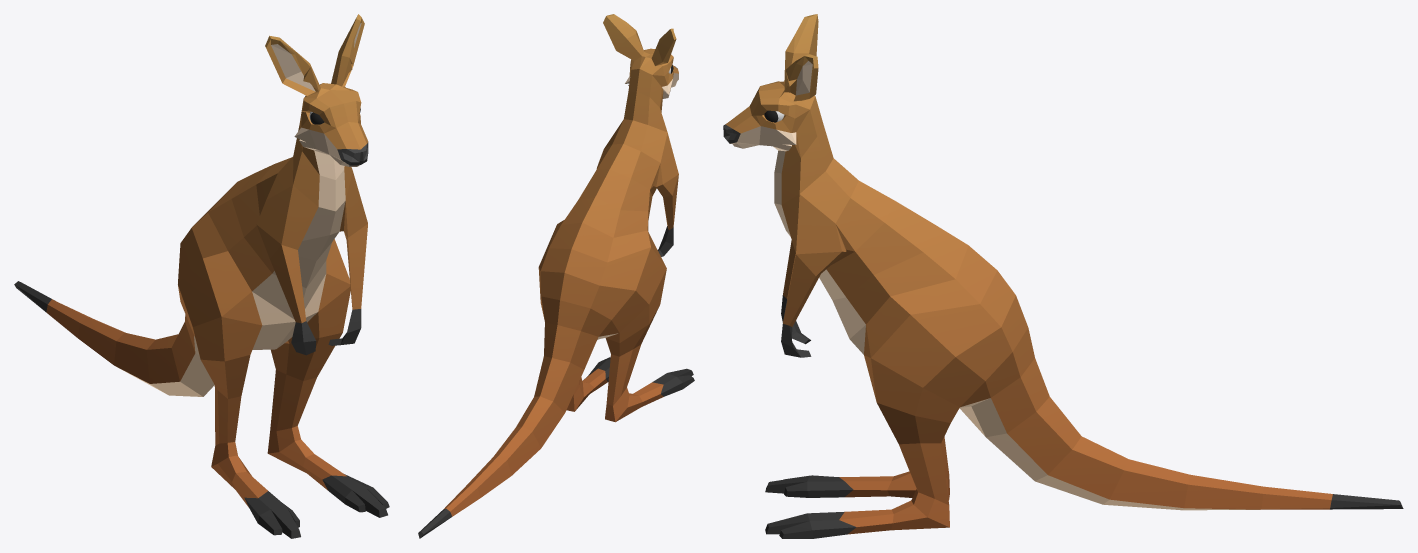
The model's file is kangaroo.glb.
The picture shows the model from 3 angles, left to right: view 1: azimuth 30°, elevation 25°; view 2: azimuth 150°, elevation 25°; view 3: azimuth 270°, elevation 25°; orthographic projection. The views are drawn at different scales.
Parts seen in each view (by area): view 1: kangaroo; view 2: kangaroo; view 3: kangaroo.
Boxes of the visible parts, x1=… form: kangaroo: x1=14, y1=14, x2=389, y2=538; kangaroo: x1=418, y1=14, x2=694, y2=538; kangaroo: x1=723, y1=14, x2=1403, y2=538.
Size of the model in its own units: 0.1908 by 0.653 by 0.8461.
1 material, 1 textured.
